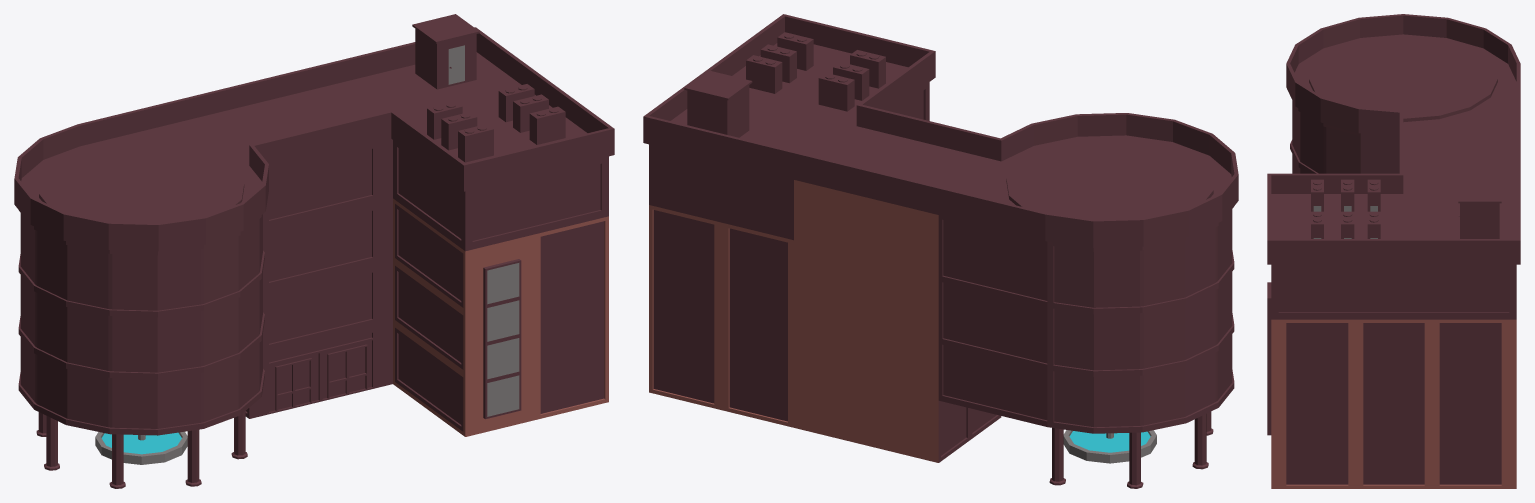
The model's file is building-mall.fbx.
The picture shows the model from 3 angles, left to right: view 1: azimuth 30°, elevation 25°; view 2: azimuth 150°, elevation 25°; view 3: azimuth 270°, elevation 25°; orthographic projection. The views are drawn at different scales.
Visible parts, largest first — view 1: building-mall; view 2: building-mall; view 3: building-mall.
Part boxes in pixels (x1=…): building-mall: x1=14, y1=14, x2=614, y2=488; building-mall: x1=643, y1=14, x2=1238, y2=488; building-mall: x1=1267, y1=14, x2=1520, y2=488.
Bounding box in the file's own units: 28.4 × 16.1 × 13.4.
